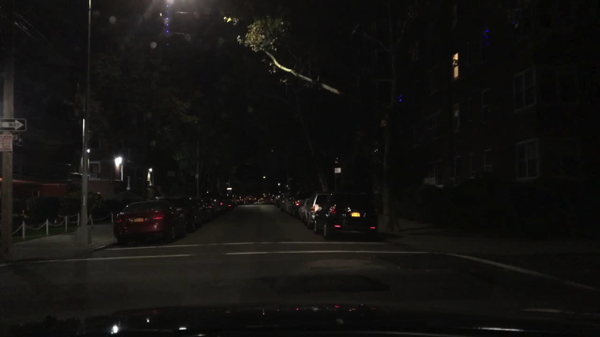car: (113, 199, 189, 245), (313, 191, 379, 239), (157, 197, 197, 231), (305, 191, 337, 229), (186, 198, 208, 227), (290, 191, 311, 214), (298, 197, 316, 220), (210, 194, 227, 212), (203, 199, 219, 217), (284, 197, 298, 212), (276, 193, 287, 208), (228, 198, 236, 208), (248, 195, 257, 203), (273, 197, 279, 205), (237, 198, 243, 204)
traffic sign: (0, 120, 27, 131), (0, 135, 14, 151), (333, 167, 342, 174)
